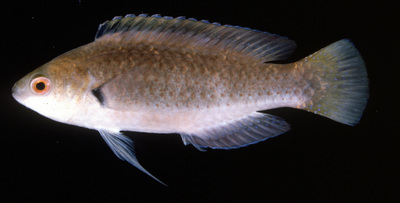fish: (12, 13, 368, 187)
